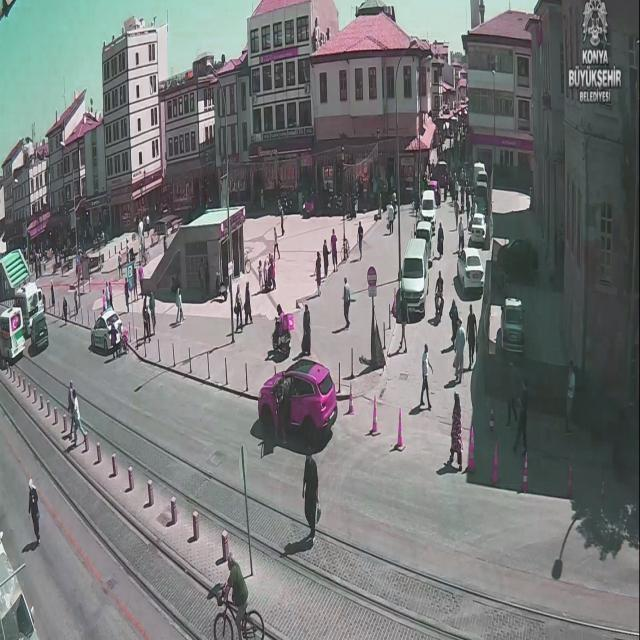Car: (257, 358, 338, 436), (492, 236, 540, 270), (90, 308, 125, 354), (500, 299, 526, 354), (458, 247, 484, 295), (420, 189, 438, 225), (469, 212, 487, 244), (415, 220, 434, 249), (474, 184, 488, 212)
Cycle: (210, 586, 264, 640)
Van: (399, 240, 431, 316), (15, 282, 44, 338), (0, 306, 26, 362)
